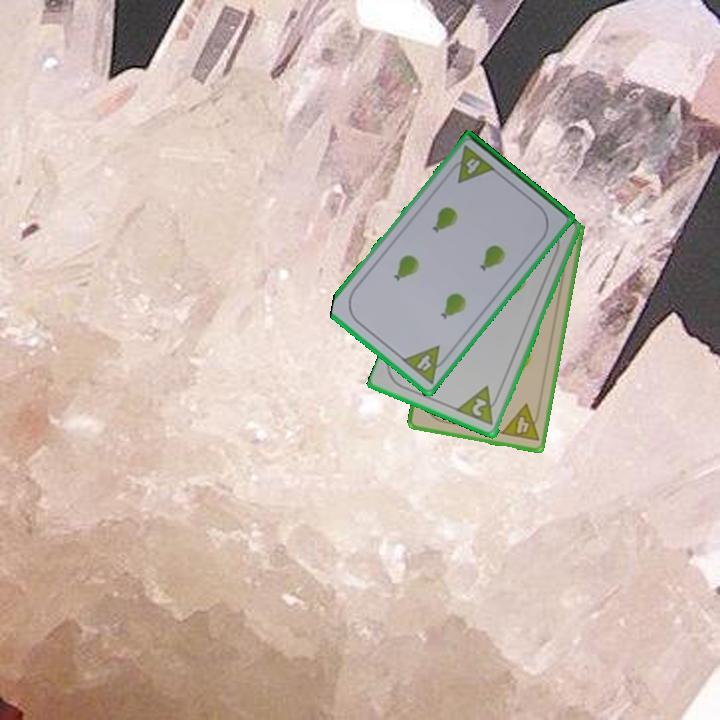2p: (454, 383, 503, 429)
4p: (398, 342, 453, 387), (445, 142, 498, 186), (497, 401, 544, 444)
